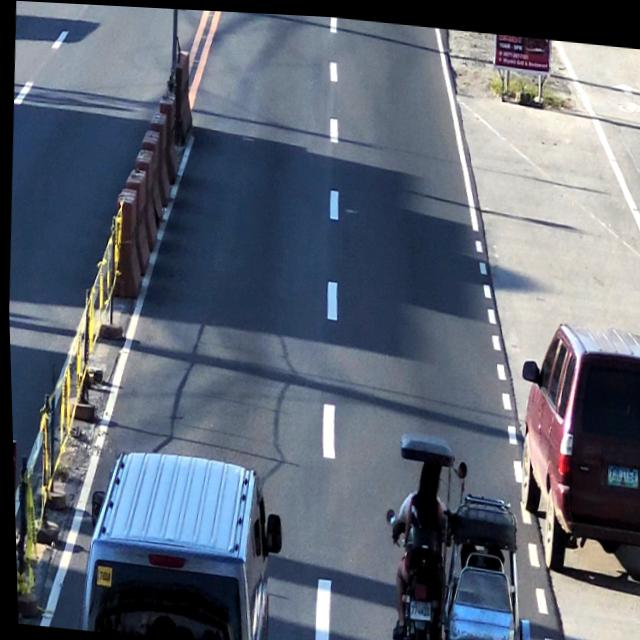Car: (75, 449, 276, 640), (521, 319, 640, 556)
License-Plate: (605, 459, 638, 485), (401, 595, 429, 618)
Tricycle: (378, 422, 535, 640)
